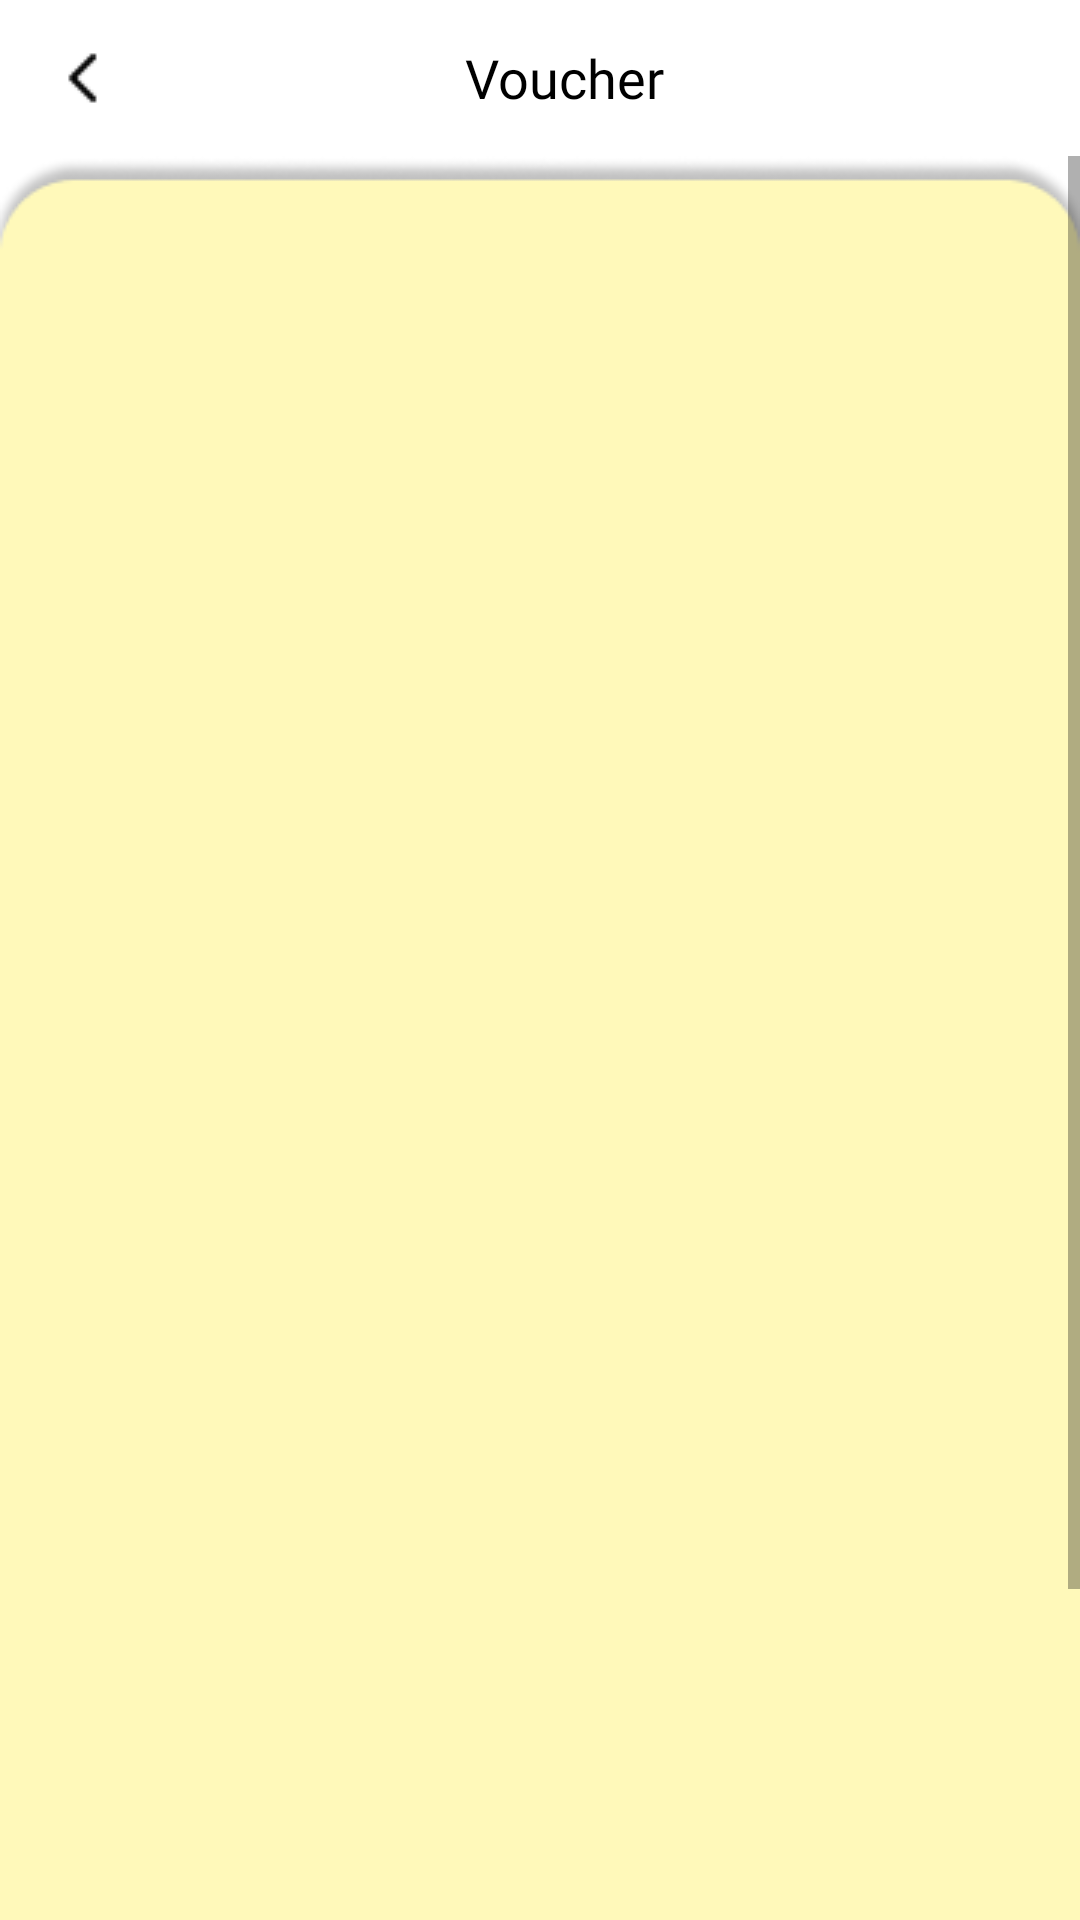

Icons on this 1080 x 1920 Android screen, each with the point to tap as (x=x, y=y):
Back: (x=82, y=78)
